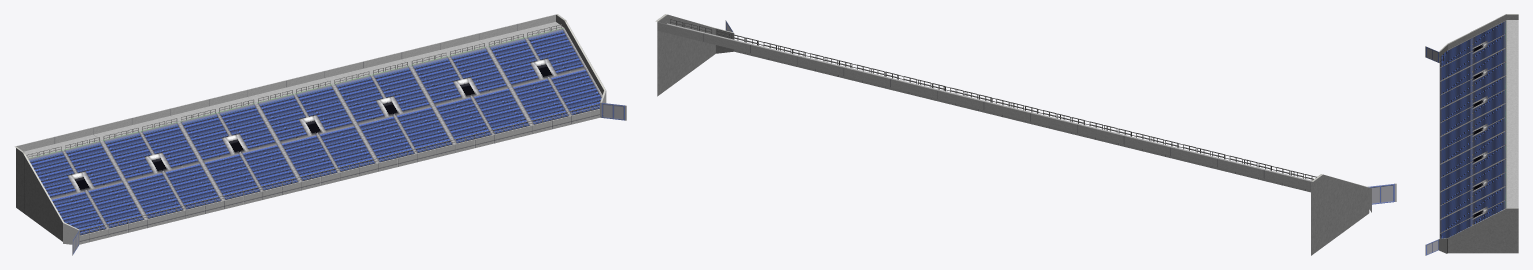
The picture shows the model from 3 angles, left to right: view 1: azimuth 30°, elevation 25°; view 2: azimuth 150°, elevation 25°; view 3: azimuth 270°, elevation 25°; orthographic projection. The views are drawn at different scales.
Size of the model in its own units: 92 by 9.77 by 18.26.
Materials: 8 (8 with a texture image).
